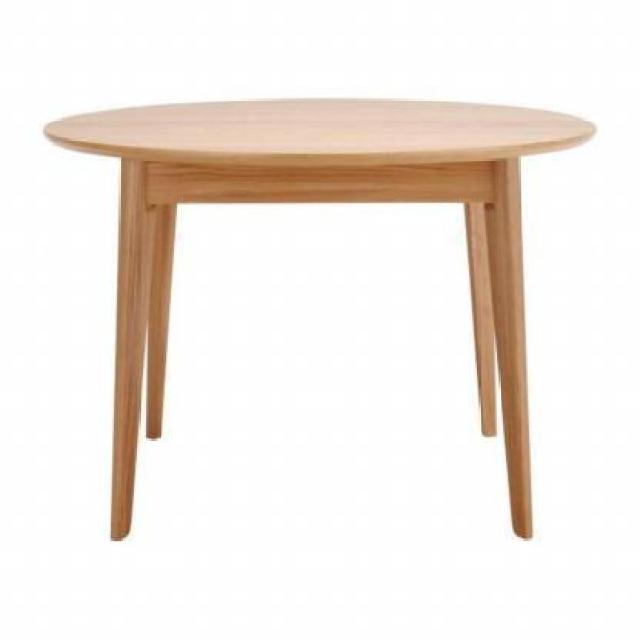tables: (41, 96, 597, 542)
